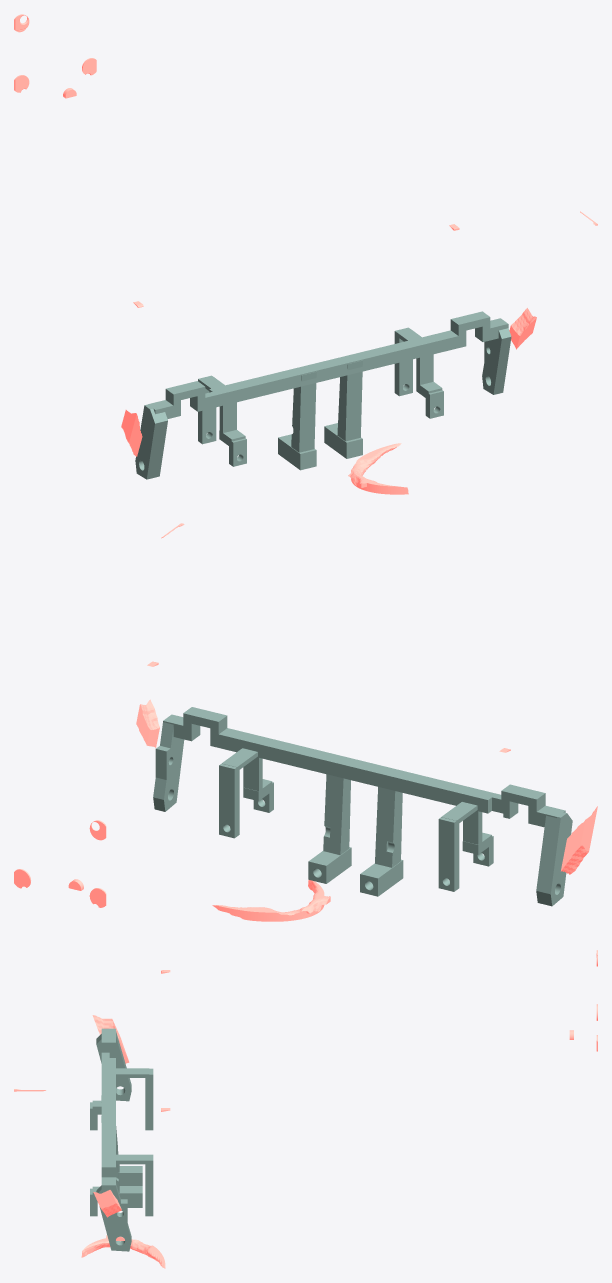
File: interference.glb
3 views of the same model, one above another, from view 1: azimuth 30°, elevation 25°; view 2: azimuth 150°, elevation 25°; view 3: azimuth 270°, elevation 25° (orthographic). The views are drawn at different scales.
Parts seen in each view (by area): view 1: cradle-reamed, front-orbit-1, front-shell-3; view 2: cradle-reamed, front-orbit-1, front-shell-2, front-shell-3; view 3: cradle-reamed, front-orbit-1, front-shell-3.
Boxes of the visible parts, bbox=[...] form: cradle-reamed: bbox=[135, 311, 511, 479]; front-orbit-1: bbox=[348, 443, 408, 494]; front-shell-3: bbox=[509, 308, 536, 349]; cradle-reamed: bbox=[153, 707, 572, 906]; front-orbit-1: bbox=[212, 880, 330, 921]; front-shell-2: bbox=[561, 806, 597, 874]; front-shell-3: bbox=[136, 699, 159, 747]; cradle-reamed: bbox=[90, 1028, 153, 1251]; front-orbit-1: bbox=[81, 1235, 165, 1268]; front-shell-3: bbox=[93, 1190, 121, 1217].
Bounding box in the file's own units: 144 × 96.88 × 195.
